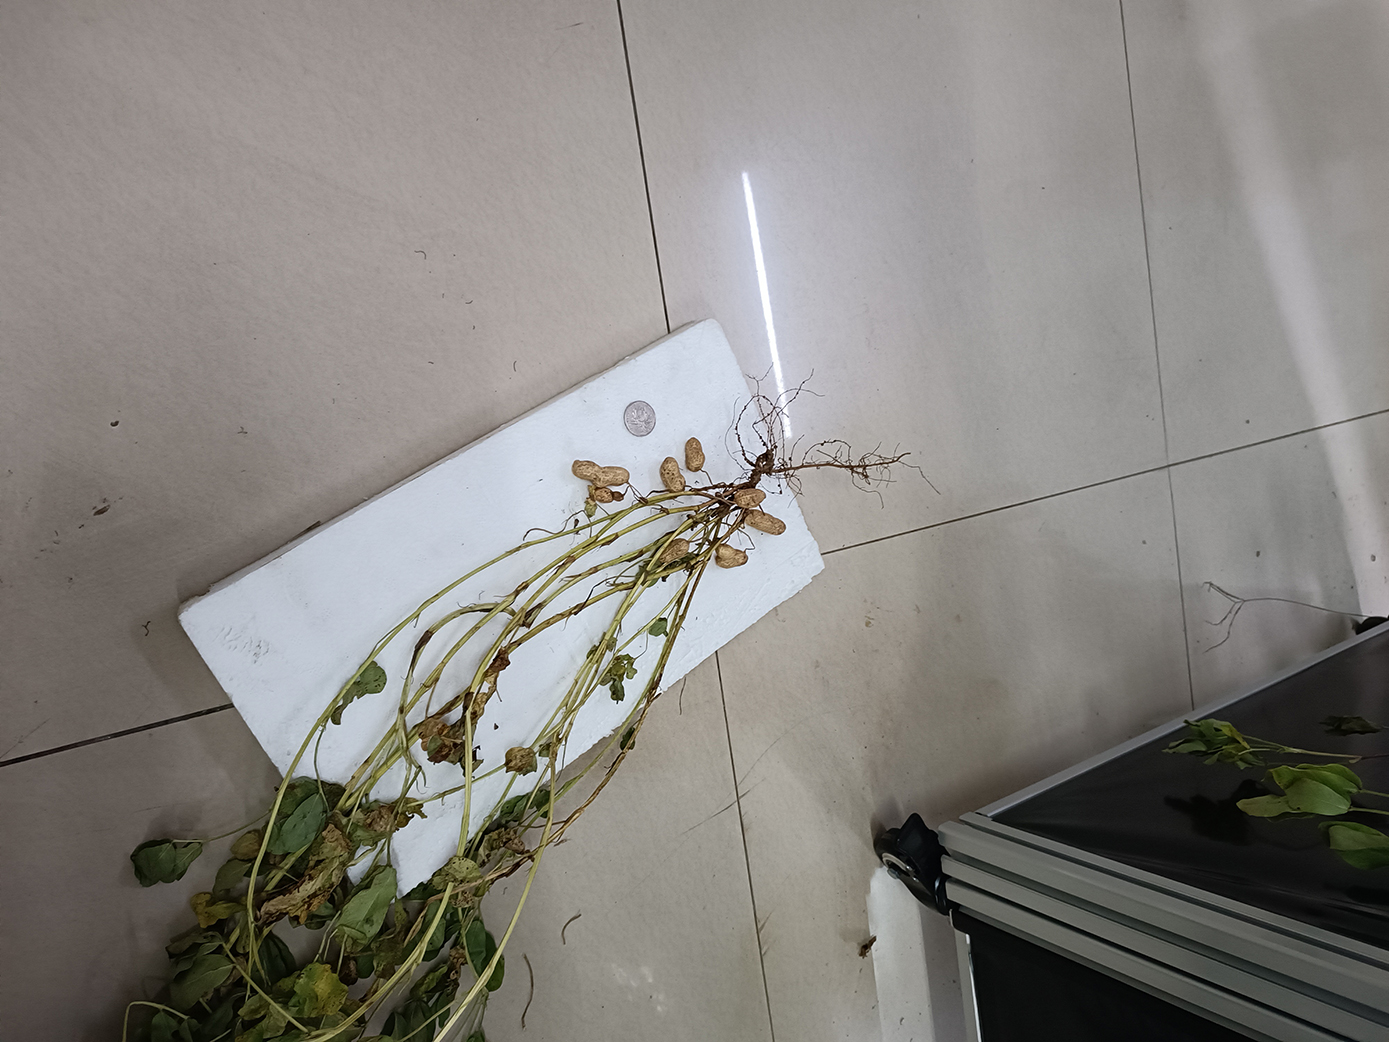h: (572, 460, 630, 487), (745, 510, 786, 537), (659, 456, 685, 495), (716, 543, 748, 569), (685, 437, 706, 472), (660, 539, 688, 564), (734, 487, 766, 509)
l: (591, 488, 623, 503)
